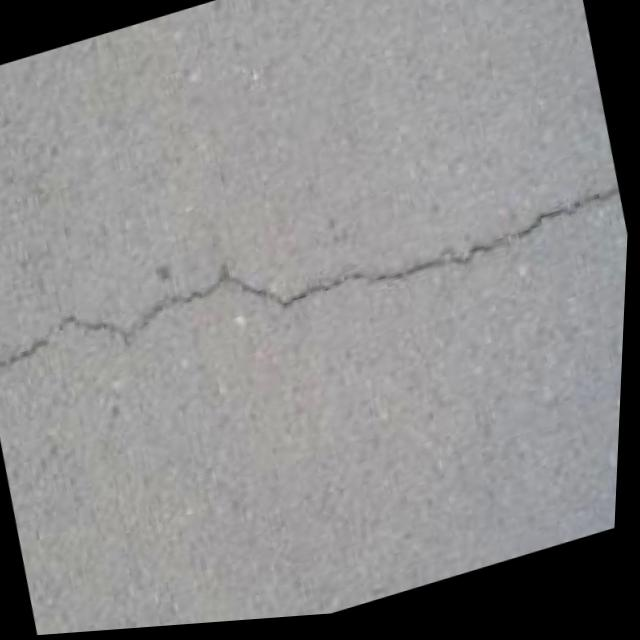Crack: (0, 134, 634, 430)
